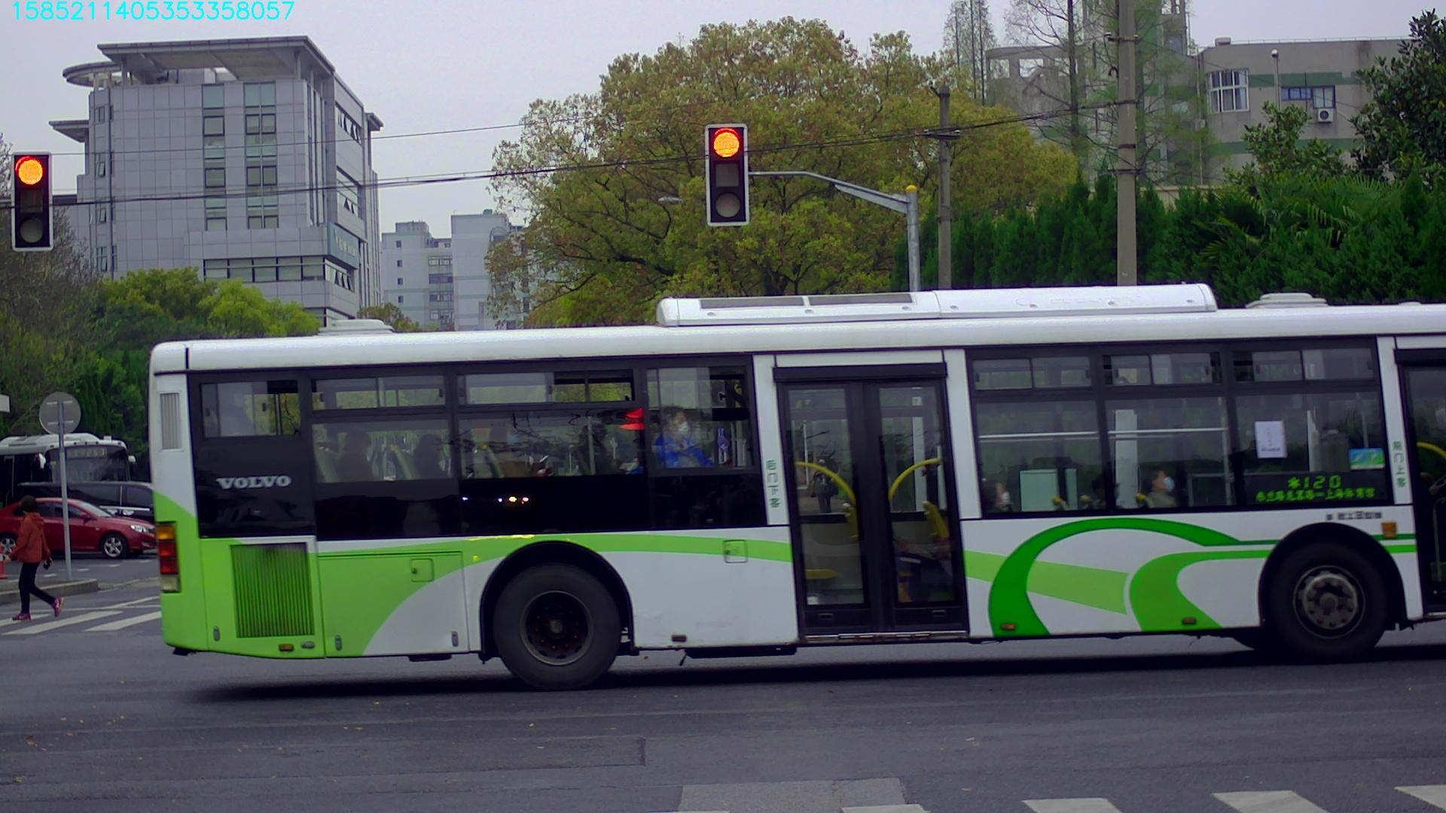red: (706, 124, 748, 223), (13, 152, 51, 249)
